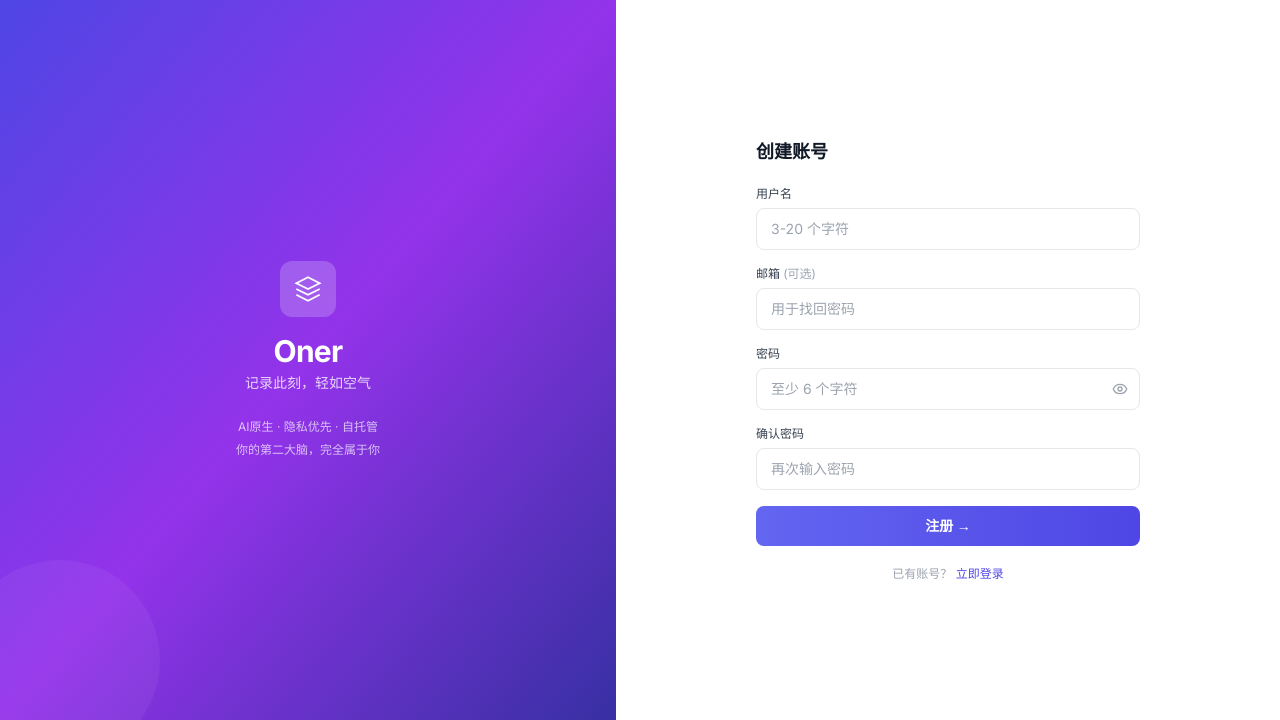
it: Register Page › RP-03: 用户名长度验证
In the field with placeholder "3-20 个字符": (948, 229) [756,208,1140,250], type "ab"
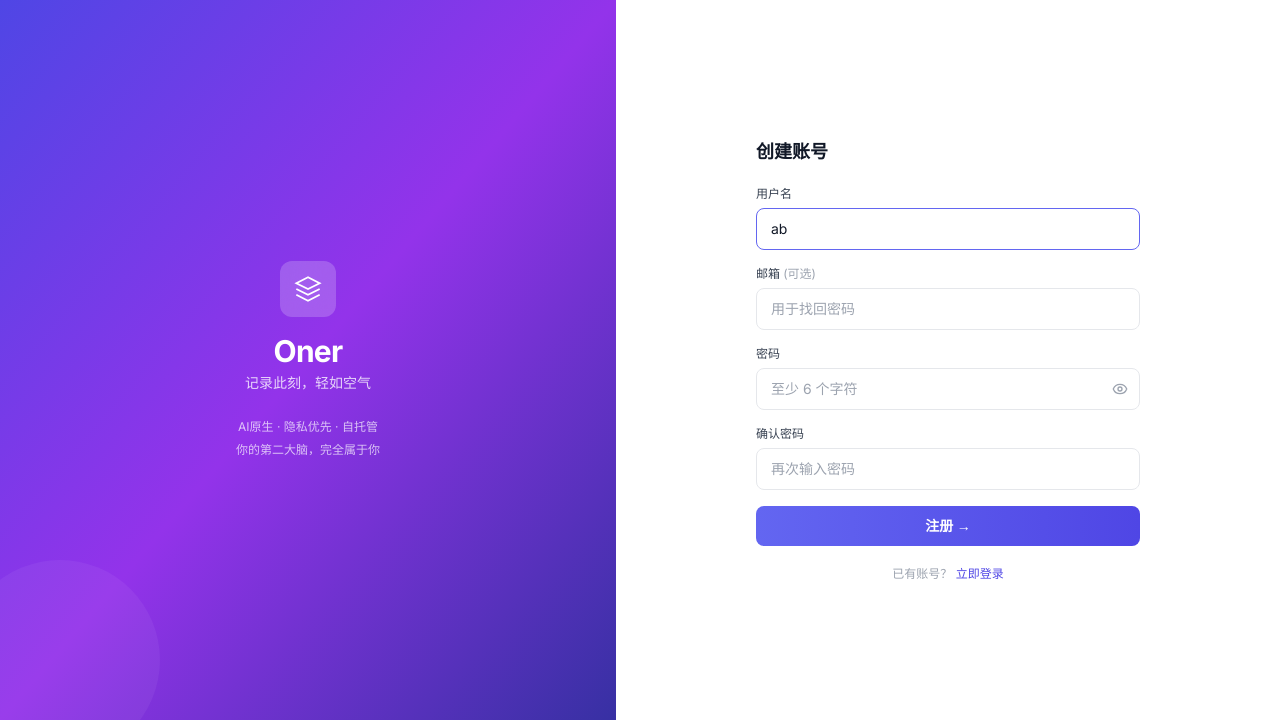
In the password field with placeholder "至少 6 个字符": (948, 389) [756,368,1140,410], type "pass123"
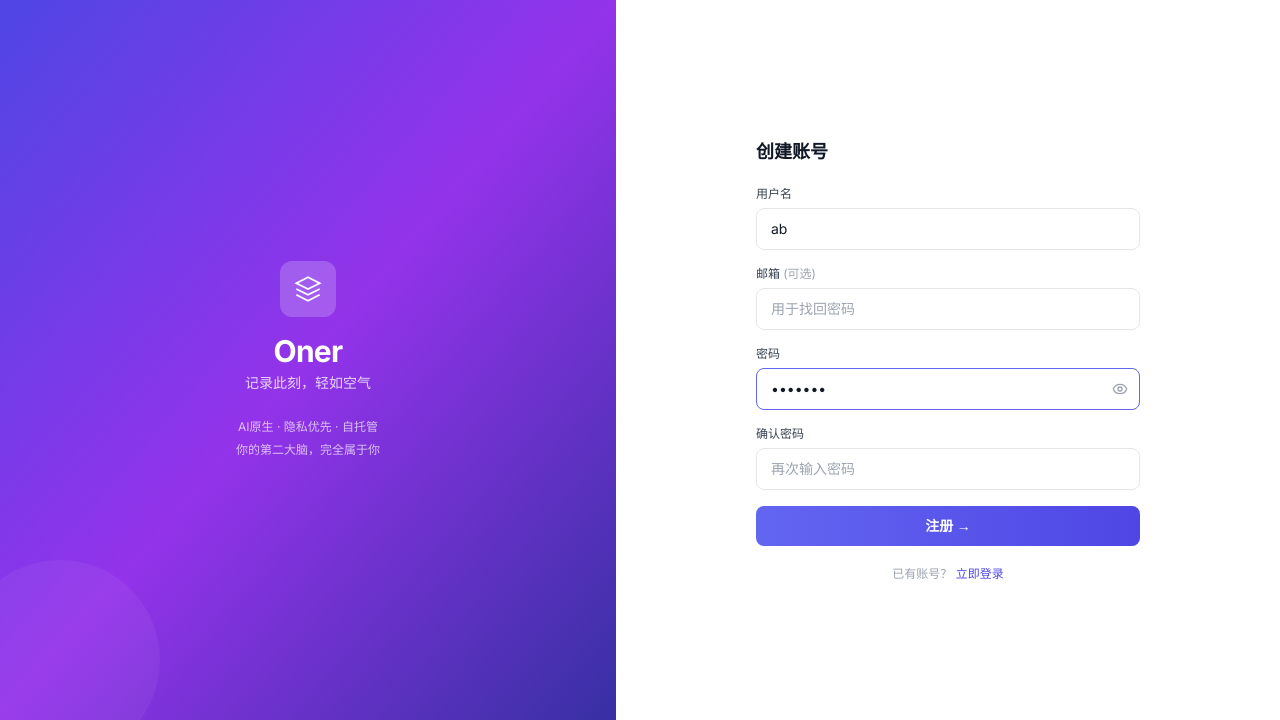
Click the button "注册 →": (948, 526) [756,506,1140,546]
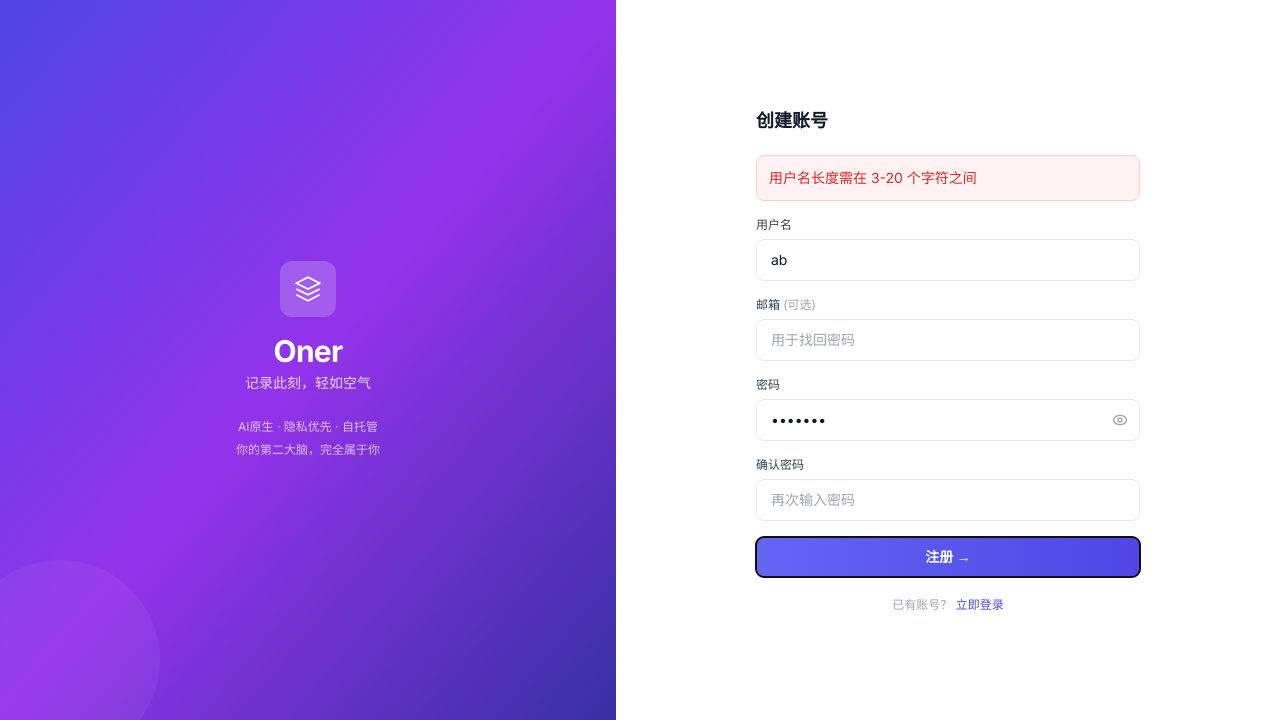
Check: the text "用户名长度需在 3-20 个字符之间" is shown, box [756,155,1140,201]
